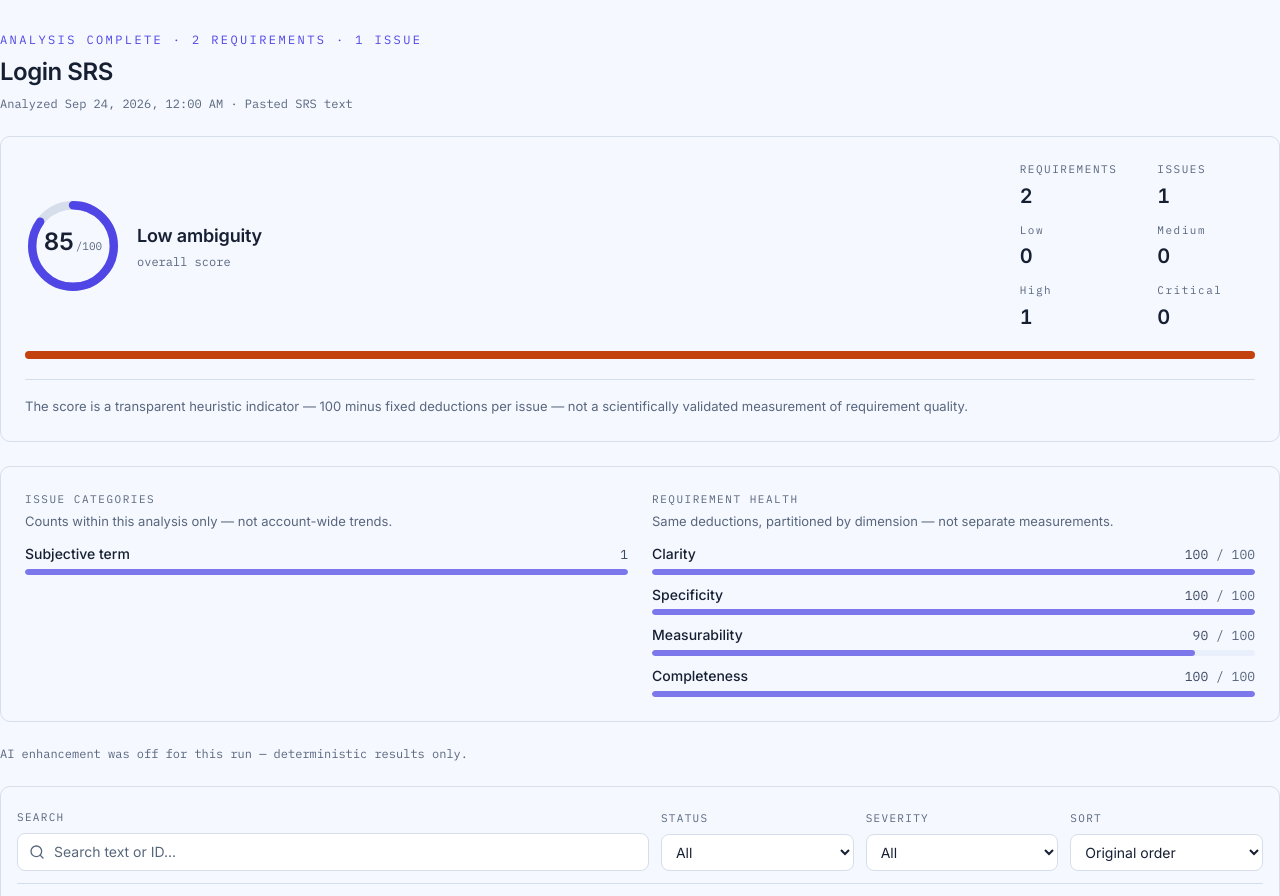
AnalysisResultView › status and severity filters combine, with an honest empty state + reset
Step 1. Select "Clean" in the dropdown labelled "Status" → (757, 852), box top-left (661, 834), bottom-right (854, 870)
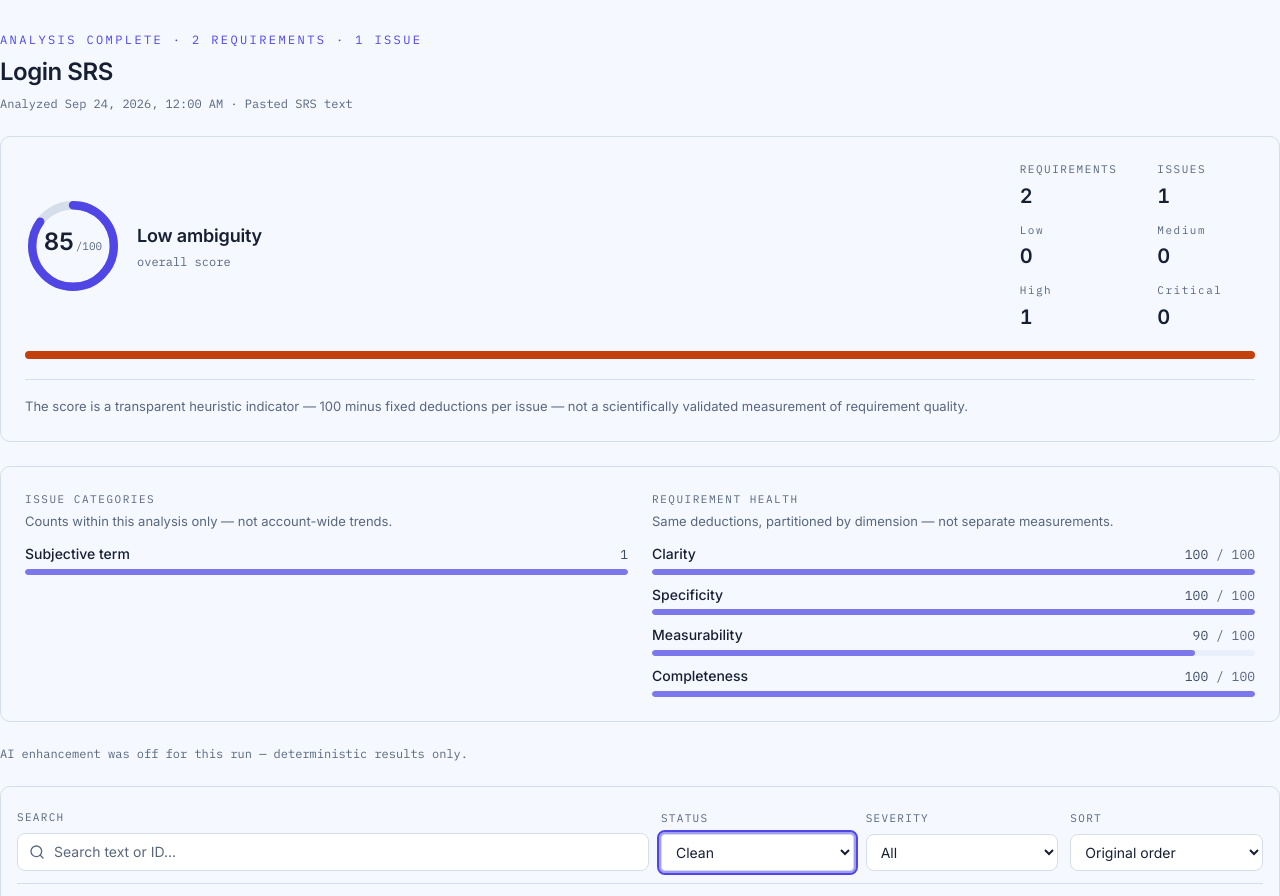
Step 2. Select "High" in the dropdown labelled "Severity" → (962, 852), box top-left (866, 834), bottom-right (1058, 870)
(page scrolled)
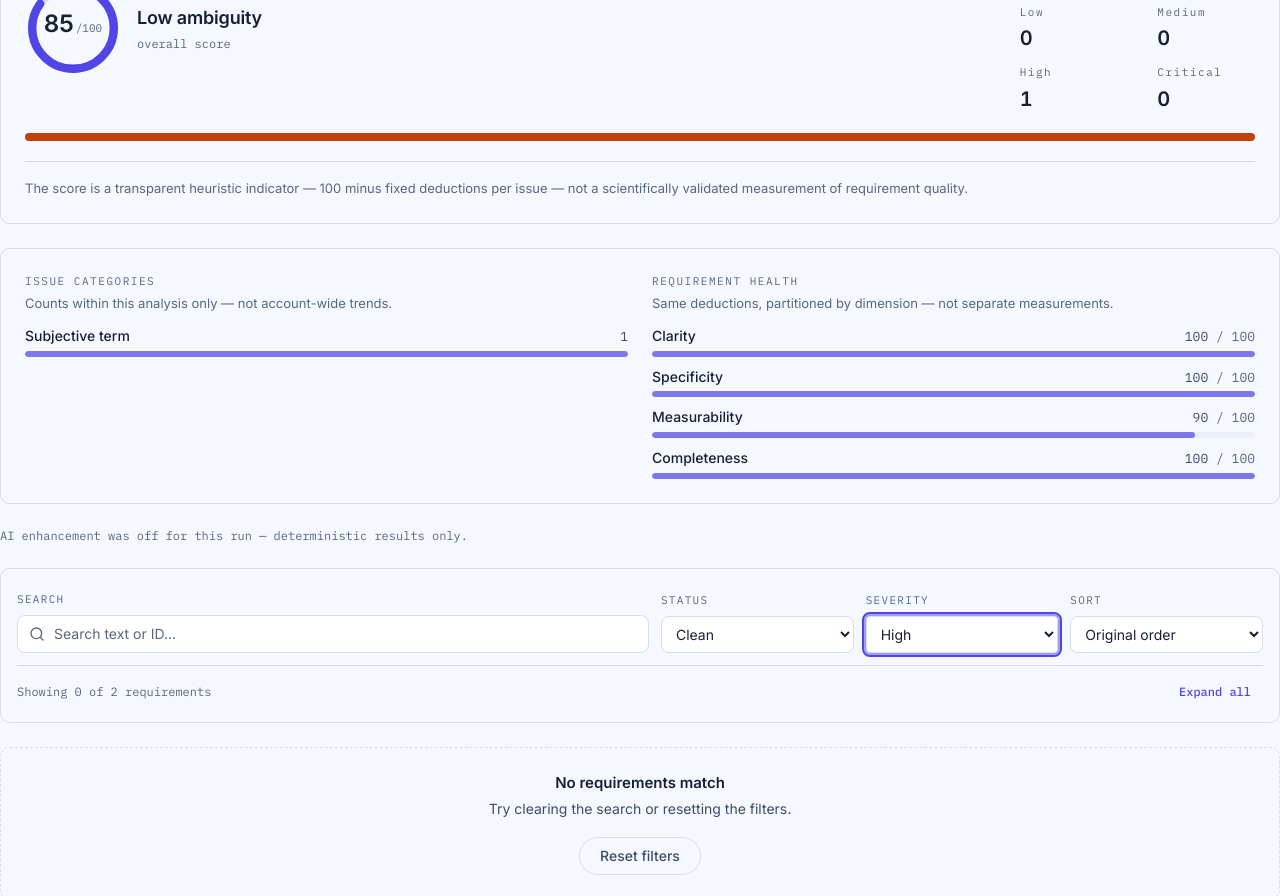
Result: the heading "No requirements match" is shown at top-left (555, 772), bottom-right (725, 792)
Step 3. Click the button "Reset filters" → (640, 856), box top-left (579, 837), bottom-right (701, 875)
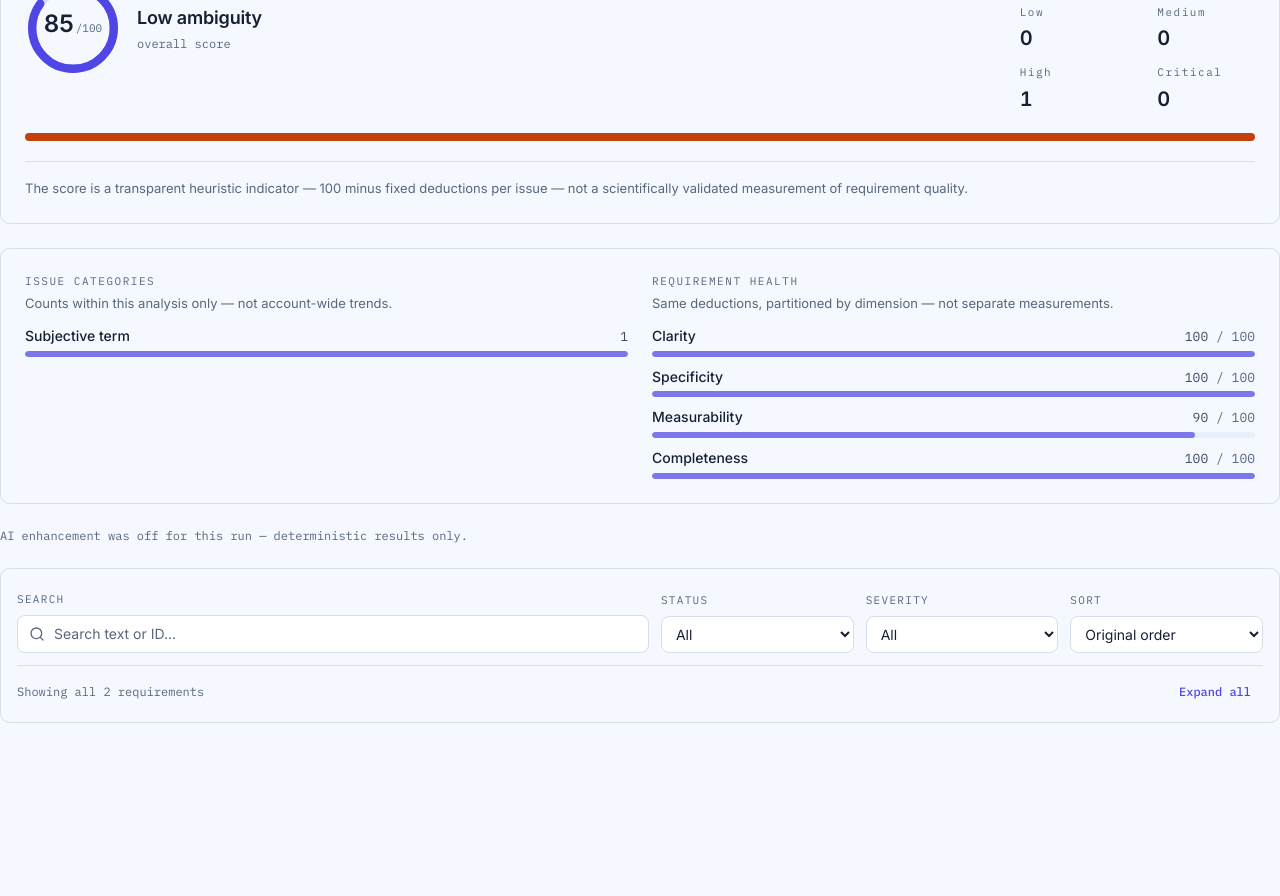
Result: the text "Showing all 2 requirements" is shown at top-left (17, 684), bottom-right (204, 700)
